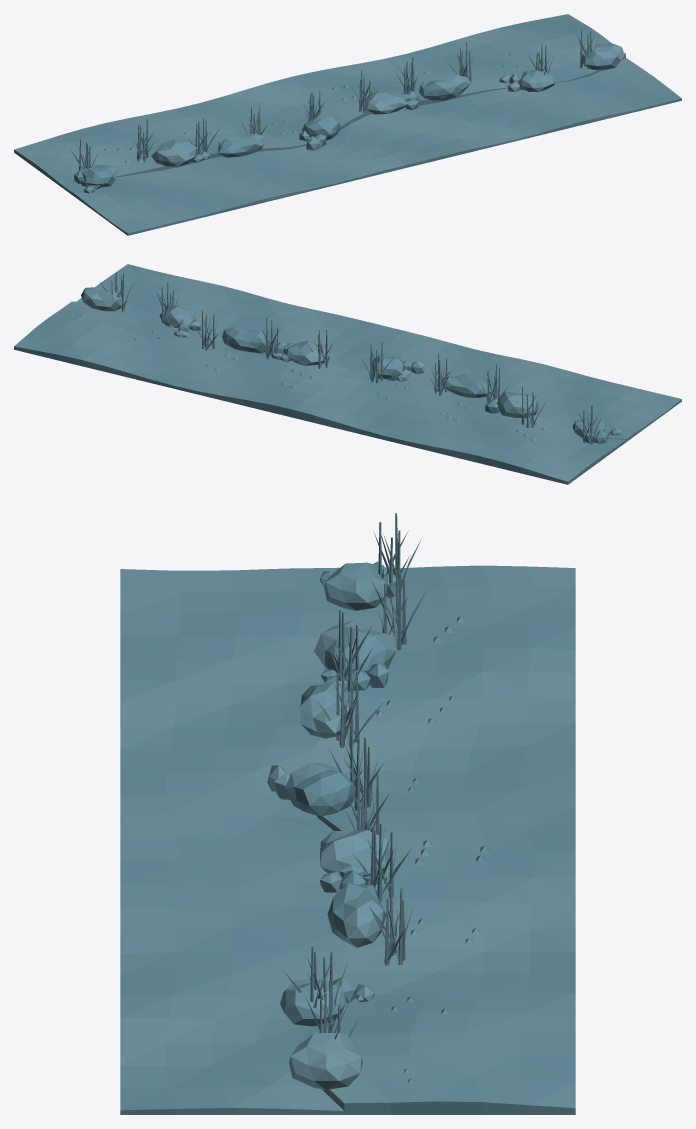
File: 0-20261016-1900-ev056-r11-exterior-lakeshore.fbx
3 renders of one model, top to bottom at view 1: azimuth 30°, elevation 25°; view 2: azimuth 150°, elevation 25°; view 3: azimuth 270°, elevation 25°, orthographic. The views are drawn at different scales.
Parts seen in each view (by area): view 1: SW_Exterior_LakeShore; view 2: SW_Exterior_LakeShore; view 3: SW_Exterior_LakeShore.
Boxes of the visible parts, x1,y1,x2,y2 form: SW_Exterior_LakeShore: (14,14,681,235); SW_Exterior_LakeShore: (14,264,681,484); SW_Exterior_LakeShore: (120,513,575,1114).
Size of the model in its own units: 1000 by 80.88 by 356.
